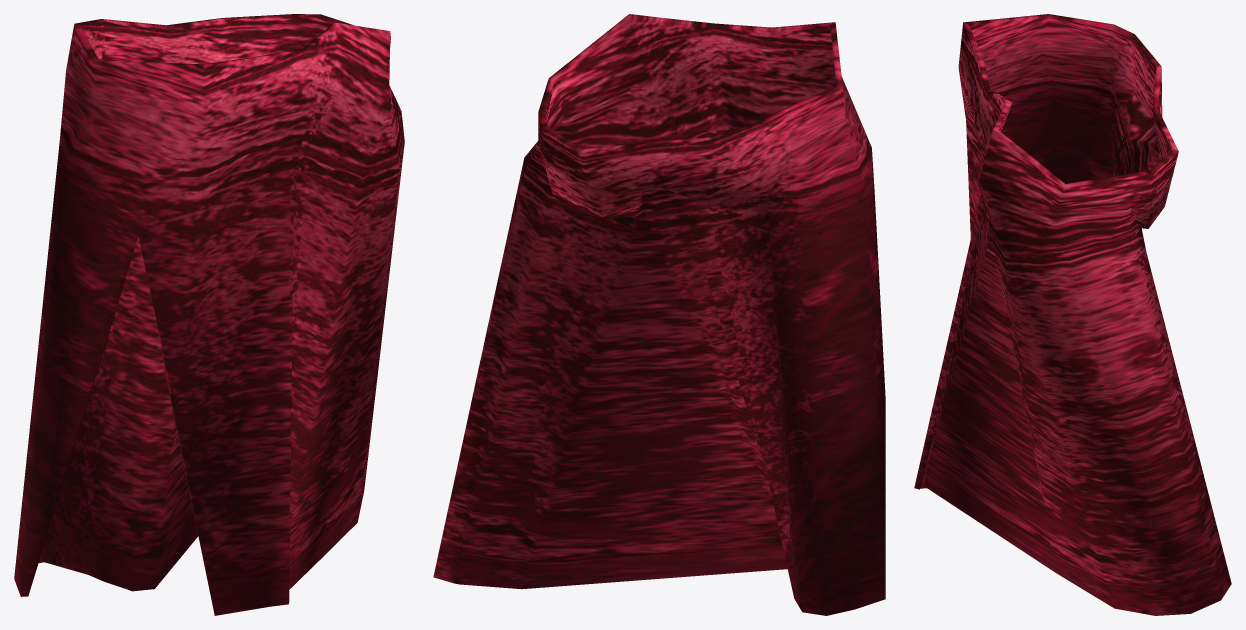
The model's file is Bottom7.fbx.
3 views of the same model, side by side, from view 1: azimuth 30°, elevation 25°; view 2: azimuth 150°, elevation 25°; view 3: azimuth 270°, elevation 25° (orthographic). The views are drawn at different scales.
Visible parts, largest first — view 1: F.Bottom.Short.004; view 2: F.Bottom.Short.004; view 3: F.Bottom.Short.004.
Part boxes in pixels (x1,y1,x2,y2): F.Bottom.Short.004: [14, 14, 404, 615]; F.Bottom.Short.004: [433, 14, 885, 615]; F.Bottom.Short.004: [914, 14, 1231, 615].
Size of the model in its own units: 430 by 580 by 343.
